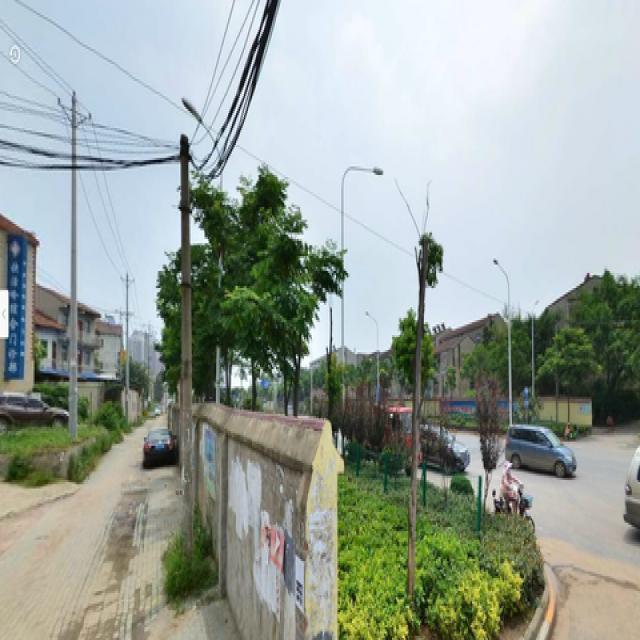koel: (211, 194, 308, 403)
